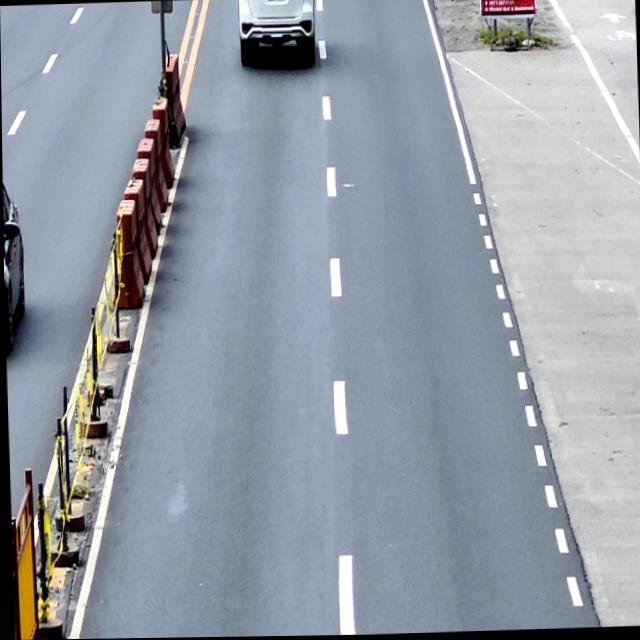Car: (236, 0, 316, 70), (2, 175, 27, 355)
